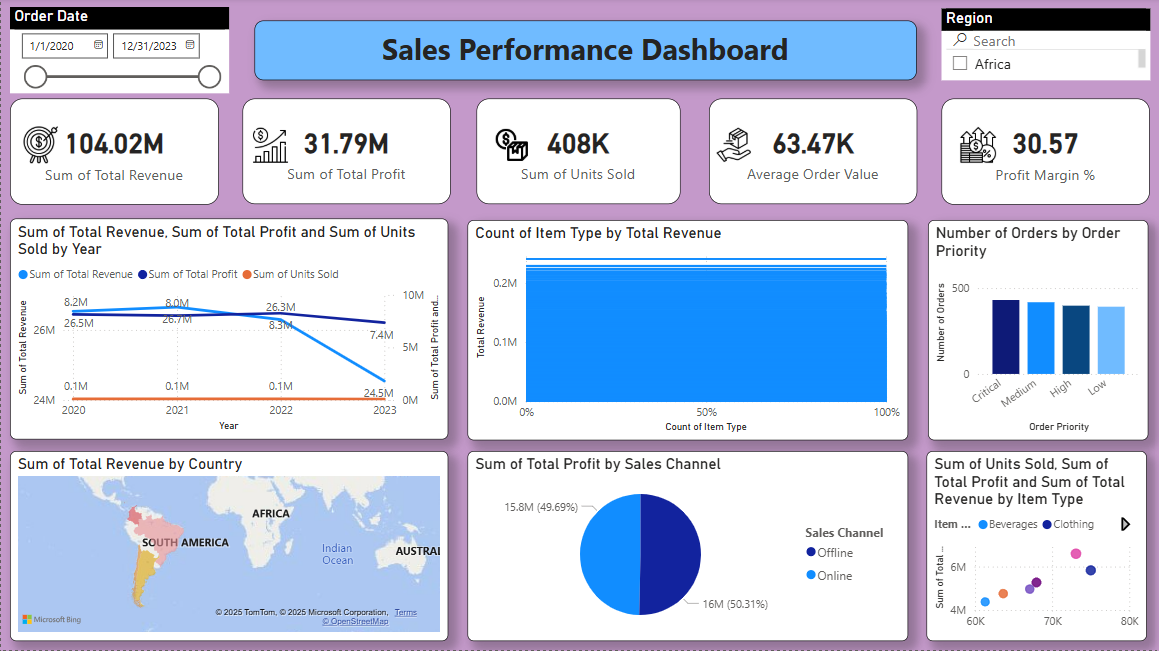

This screenshot's page, from the dashboard's own definition file:
{"tool":"powerbi","page":{"name":"Page 1","canvas":[1280,720],"ordinal":0},"visuals":[{"type":"card","fields":{"Values":["Sum(sales_data.Total Revenue)"]},"box":[9.4,111.5,230.6,117.2],"z":0},{"type":"textbox","box":[279.7,24.6,731.3,66.1],"z":1000},{"type":"card","fields":{"Values":["Sum(sales_data.Total Profit)"]},"box":[266.7,111.7,230,116.7],"z":2000},{"type":"card","fields":{"Values":["Sum(sales_data.Units Sold)"]},"box":[525,111.7,225,116.7],"z":3000},{"type":"card","fields":{"Values":["sales_data.Average Order Value"]},"box":[781.7,111.7,230,116.7],"z":4000},{"type":"card","fields":{"Values":["sales_data.Profit Margin %"]},"box":[1039.4,111.5,230,117.2],"z":5000},{"type":"lineChart","fields":{"Category":["sales_data.Order Date.Variation.Date Hierarchy.Year","sales_data.Order Date.Variation.Date Hierarchy.Quarter","sales_data.Order Date.Variation.Date Hierarchy.Month","sales_data.Order Date.Variation.Date Hierarchy.Day"],"Y":["Sum(sales_data.Total Revenue)"],"Y2":["Sum(sales_data.Total Profit)","Sum(sales_data.Units Sold)"]},"box":[9.4,243.8,483.8,243.8],"z":6000},{"type":"slicer","title":"Order Date","fields":{"Values":["sales_data.Order Date"]},"box":[10,10,241.7,95],"z":7000},{"type":"slicer","title":"Region","fields":{"Values":["sales_data.Region"]},"box":[1039.4,11.3,230.6,79.4],"z":8000},{"type":"filledMap","fields":{"Category":["sales_data.Country"]},"box":[9.4,500.8,483.8,209.8],"z":9000},{"type":"hundredPercentStackedBarChart","fields":{"Y":["CountNonNull(sales_data.Item Type)"],"Category":["sales_data.Total Revenue"]},"box":[515,245,486.7,243.3],"z":10000},{"type":"pieChart","fields":{"Category":["sales_data.Sales Channel"],"Y":["Sum(sales_data.Total Profit)"]},"box":[515,500,486.7,210],"z":11000},{"type":"clusteredColumnChart","fields":{"Category":["sales_data.Order Priority"],"Y":["sales_data.Number of Orders"]},"box":[1023.3,245,243.3,243.3],"z":12000},{"type":"scatterChart","fields":{"X":["Sum(sales_data.Units Sold)"],"Y":["Sum(sales_data.Total Profit)"],"Size":["Sum(sales_data.Total Revenue)"],"Series":["sales_data.Item Type"]},"box":[1021.7,500,243.3,210],"z":13000},{"type":"image","box":[19,132.5,51,59.6],"z":14000},{"type":"image","box":[271.7,132.5,51.4,59.6],"z":15000},{"type":"image","box":[538,132.5,51,59],"z":16000},{"type":"image","box":[783,132.5,51,59.6],"z":17000},{"type":"image","box":[1053.5,132,51,59],"z":18000}]}

Visuals, with their boxes in screenshot pixels (x1, y1, x2, y2), scaled from the page's 1280x720 canvas onto the 1159x651 screenshot:
card - Sum(sales_data.Total Revenue): box(9, 101, 217, 207)
textbox: box(253, 22, 915, 82)
card - Sum(sales_data.Total Profit): box(241, 101, 450, 207)
card - Sum(sales_data.Units Sold): box(475, 101, 679, 207)
card - sales_data.Average Order Value: box(708, 101, 916, 207)
card - sales_data.Profit Margin %: box(941, 101, 1149, 207)
lineChart - sales_data.Order Date.Variation.Date Hierarchy.Year x sales_data.Order Date.Variation.Date Hierarchy.Quarter: box(9, 220, 447, 441)
"Order Date" slicer: box(9, 9, 228, 95)
"Region" slicer: box(941, 10, 1150, 82)
filledMap - sales_data.Country: box(9, 453, 447, 643)
hundredPercentStackedBarChart - CountNonNull(sales_data.Item Type) x sales_data.Total Revenue: box(466, 222, 907, 442)
pieChart - sales_data.Sales Channel x Sum(sales_data.Total Profit): box(466, 452, 907, 642)
clusteredColumnChart - sales_data.Order Priority x sales_data.Number of Orders: box(927, 222, 1147, 442)
scatterChart - Sum(sales_data.Units Sold) x Sum(sales_data.Total Profit): box(925, 452, 1145, 642)
image: box(17, 120, 63, 174)
image: box(246, 120, 293, 174)
image: box(487, 120, 533, 173)
image: box(709, 120, 755, 174)
image: box(954, 119, 1000, 173)
